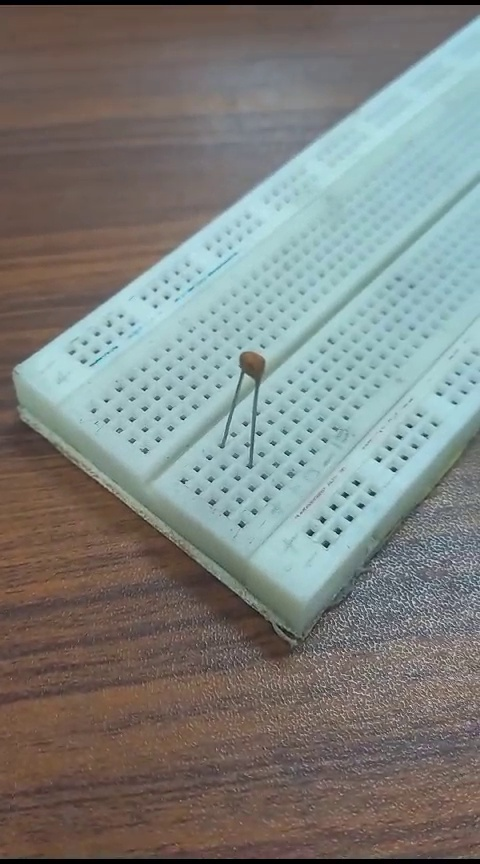ceramic capacitor: (218, 347, 288, 464)
